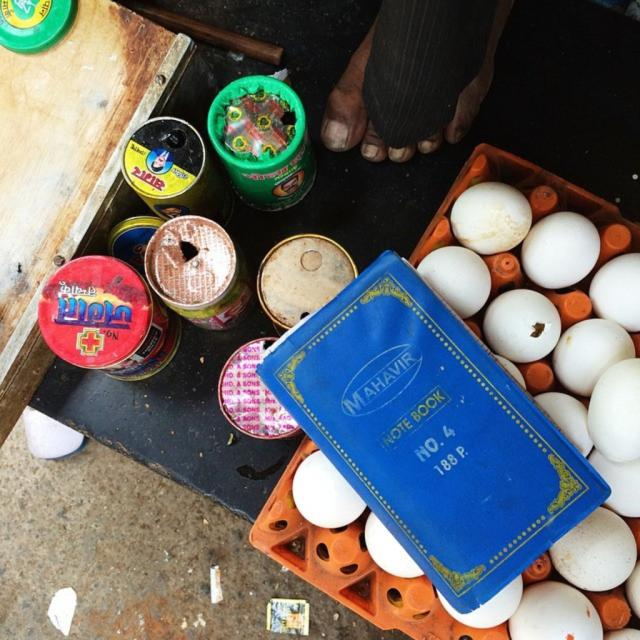Egg: (292, 181, 639, 639)
